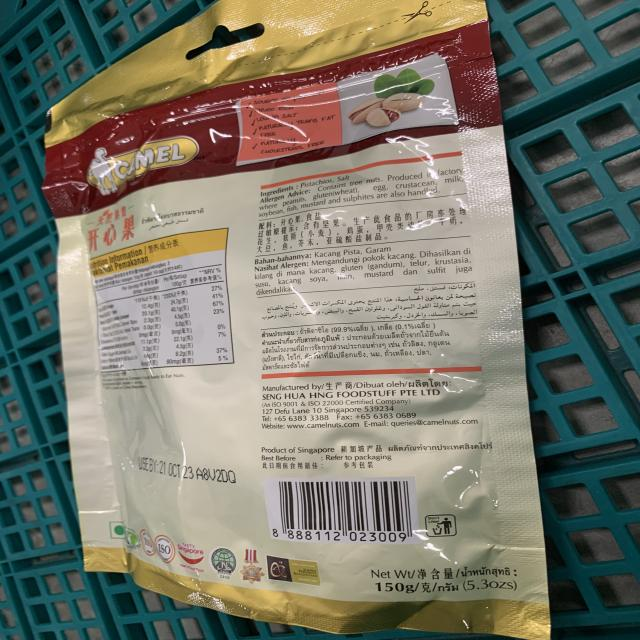object_name: (51, 11, 548, 633)
